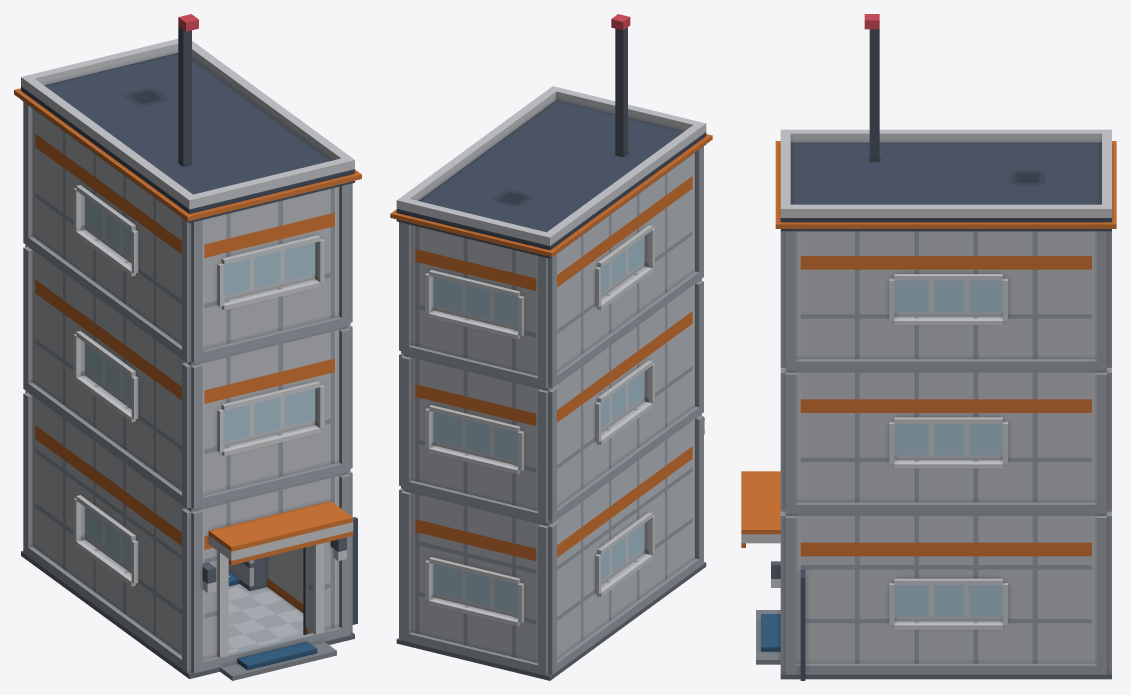
The picture shows the model from 3 angles, left to right: view 1: azimuth 30°, elevation 25°; view 2: azimuth 150°, elevation 25°; view 3: azimuth 270°, elevation 25°; orthographic projection. The views are drawn at different scales.
Visible parts, largest first — view 1: CutUpper, Base, CutNX, CutPZ, CutNZ; view 2: CutUpper, CutNZ, CutNX, Base, CutPZ; view 3: CutUpper, CutPX, Base, CutPZ, CutNZ.
Boxes of the visible parts, x1,y1,x2,y2 form: CutUpper: (14,14,361,511); Base: (21,512,357,680); CutNX: (35,398,183,623); CutPZ: (182,471,357,632); CutNZ: (23,390,35,515); CutUpper: (390,14,712,526); CutNZ: (399,488,556,637); CutNX: (555,421,692,629); Base: (396,526,706,680); CutPZ: (692,414,704,529); CutUpper: (775,14,1116,515); CutPX: (800,516,1091,632); Base: (756,610,1111,680); CutPZ: (741,471,805,640); CutNZ: (1092,511,1111,634).
Bounding box in the file's own units: 4.2 × 13.5 × 7.6.
